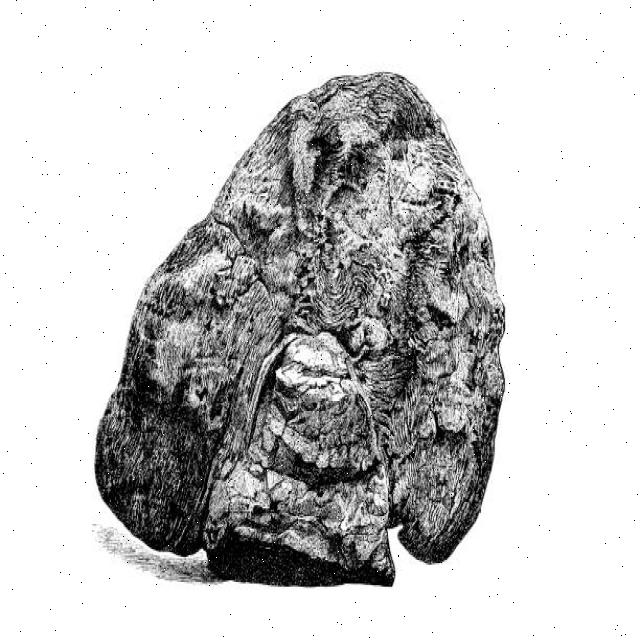Sedimentary: (91, 74, 504, 586)
